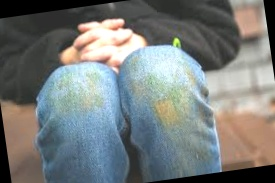earth: (146, 73, 192, 127), (56, 73, 100, 111)
